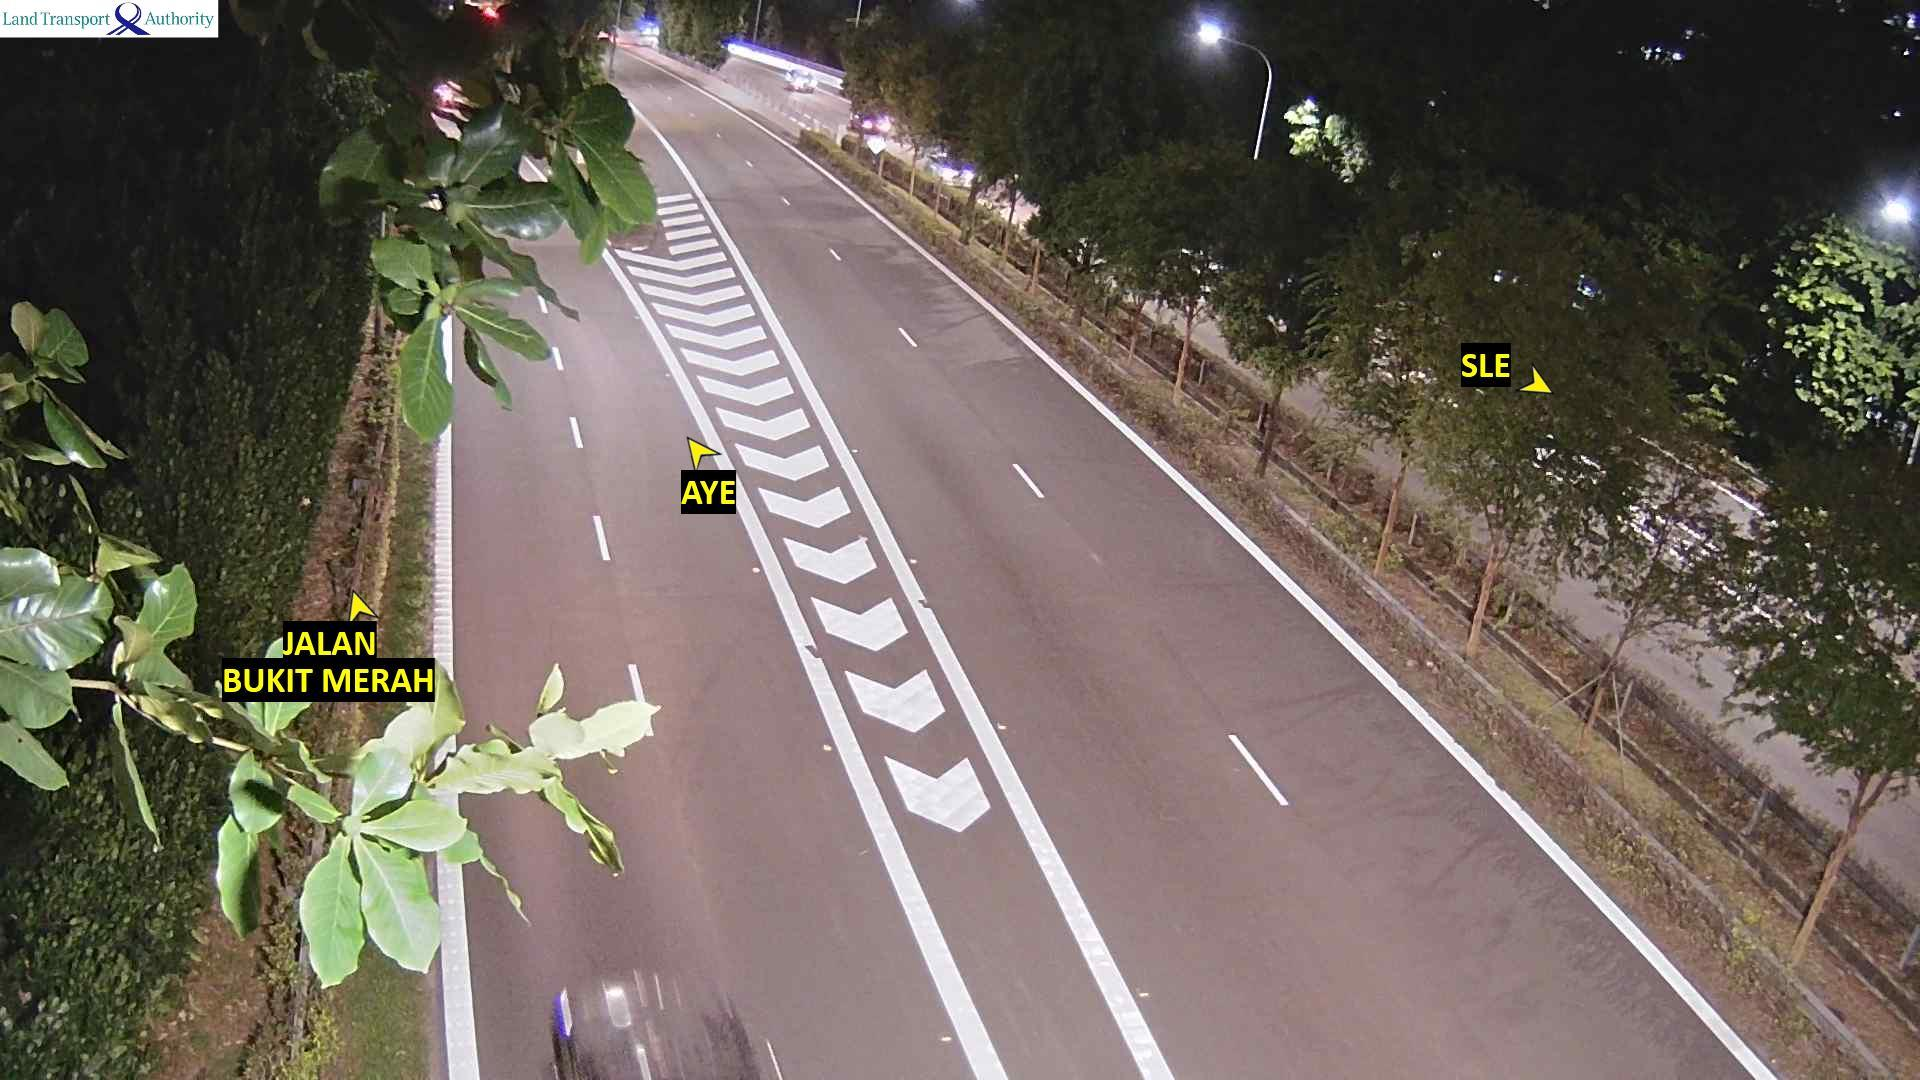incoming: (789, 70, 819, 92)
